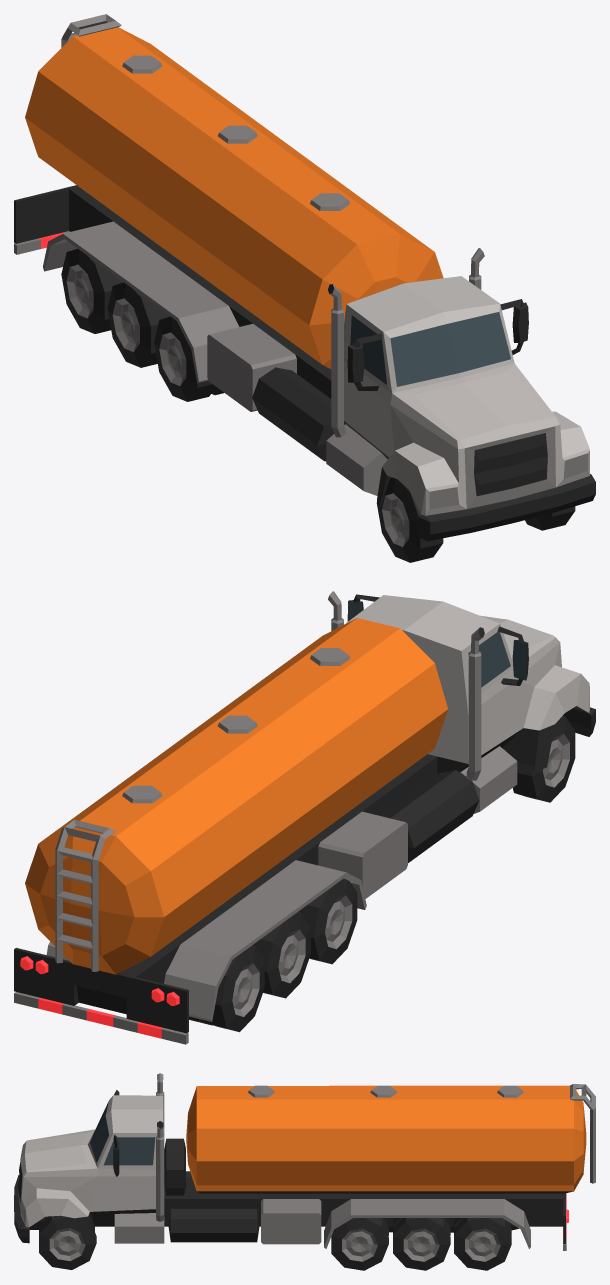
Rendered from vehicles_car-truck-tanker.fbx.
The picture shows the model from 3 angles, top to bottom: view 1: azimuth 30°, elevation 25°; view 2: azimuth 150°, elevation 25°; view 3: azimuth 270°, elevation 25°; orthographic projection. The views are drawn at different scales.
Visible parts, largest first — view 1: car_truck_tanker_base, car_truck_tanker_wheel_BR2, car_truck_tanker_wheel_BR3, car_truck_tanker_wheel_FR, car_truck_tanker_wheel_BR1; view 2: car_truck_tanker_base, car_truck_tanker_wheel_BR1, car_truck_tanker_wheel_BR2, car_truck_tanker_wheel_BR3, car_truck_tanker_wheel_FR; view 3: car_truck_tanker_base, car_truck_tanker_wheel_BL2, car_truck_tanker_wheel_BL3, car_truck_tanker_wheel_BL1, car_truck_tanker_wheel_FL.
Boxes of the visible parts, x1=… form: car_truck_tanker_base: x1=14, y1=14, x2=595, y2=541; car_truck_tanker_wheel_BR2: x1=107, y1=282, x2=169, y2=367; car_truck_tanker_wheel_BR3: x1=61, y1=248, x2=123, y2=333; car_truck_tanker_wheel_FR: x1=376, y1=477, x2=443, y2=562; car_truck_tanker_wheel_BR1: x1=154, y1=316, x2=223, y2=401; car_truck_tanker_base: x1=14, y1=591, x2=595, y2=1044; car_truck_tanker_wheel_BR1: x1=298, y1=878, x2=357, y2=964; car_truck_tanker_wheel_BR2: x1=252, y1=911, x2=310, y2=998; car_truck_tanker_wheel_BR3: x1=189, y1=945, x2=264, y2=1032; car_truck_tanker_wheel_FR: x1=513, y1=716, x2=575, y2=802; car_truck_tanker_base: x1=14, y1=1073, x2=595, y2=1250; car_truck_tanker_wheel_BL2: x1=393, y1=1218, x2=450, y2=1270; car_truck_tanker_wheel_BL3: x1=454, y1=1218, x2=511, y2=1270; car_truck_tanker_wheel_BL1: x1=331, y1=1218, x2=388, y2=1270; car_truck_tanker_wheel_FL: x1=39, y1=1215, x2=96, y2=1269.
Size of the model in its own units: 47.07 by 59.26 by 200.
